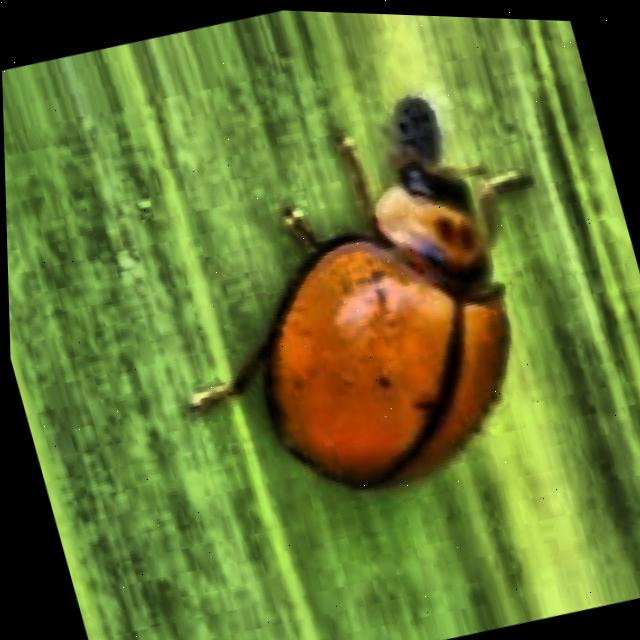Ladybug: (114, 25, 622, 574)
